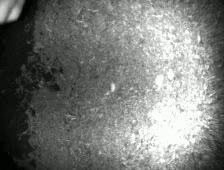corn: (153, 72, 165, 87), (108, 80, 118, 94)
